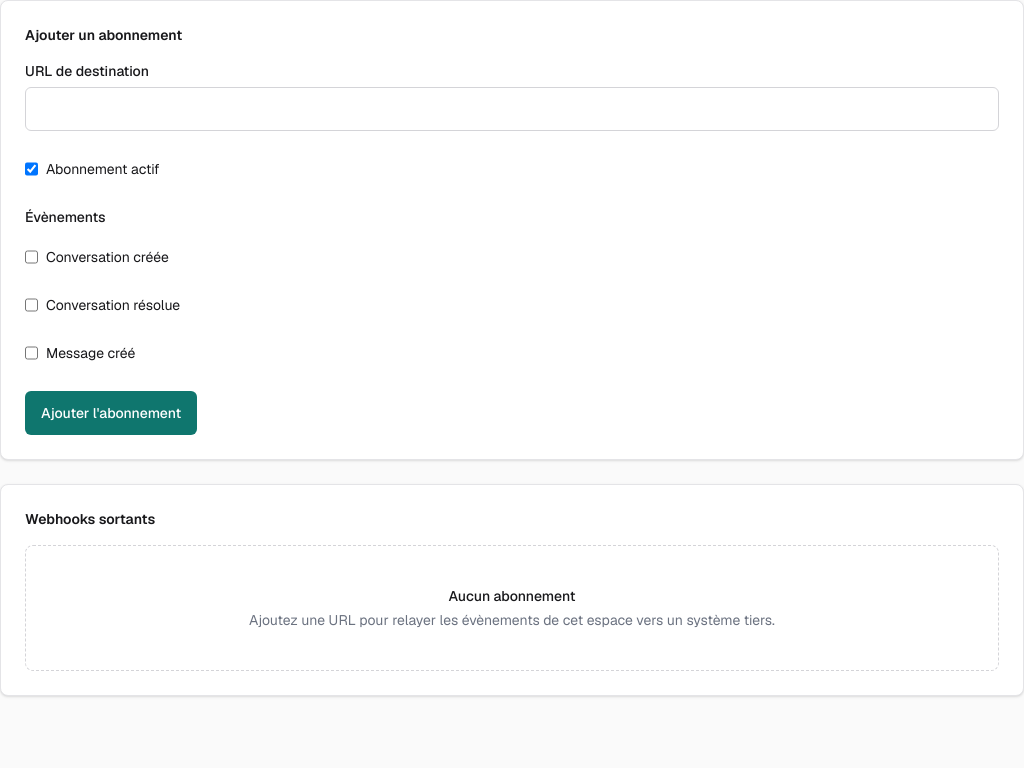
Test: WebhookSubscriptionsPage › cree un nouvel abonnement
Check: the text "Aucun abonnement" is shown, box [448, 586, 576, 606]
In the field labelled "URL de destination": (512, 109) [25, 87, 999, 131], type "https://exemple.fr/autre"
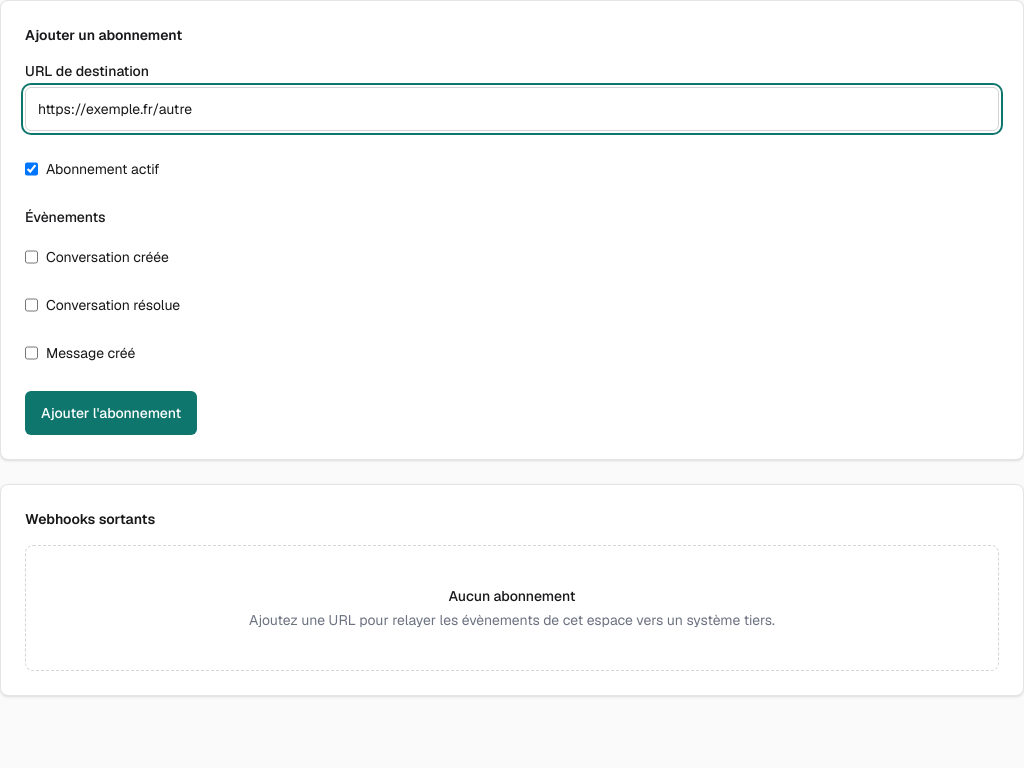
Click the checkbox labelled "Conversation créée": (32, 257) [25, 235, 38, 279]
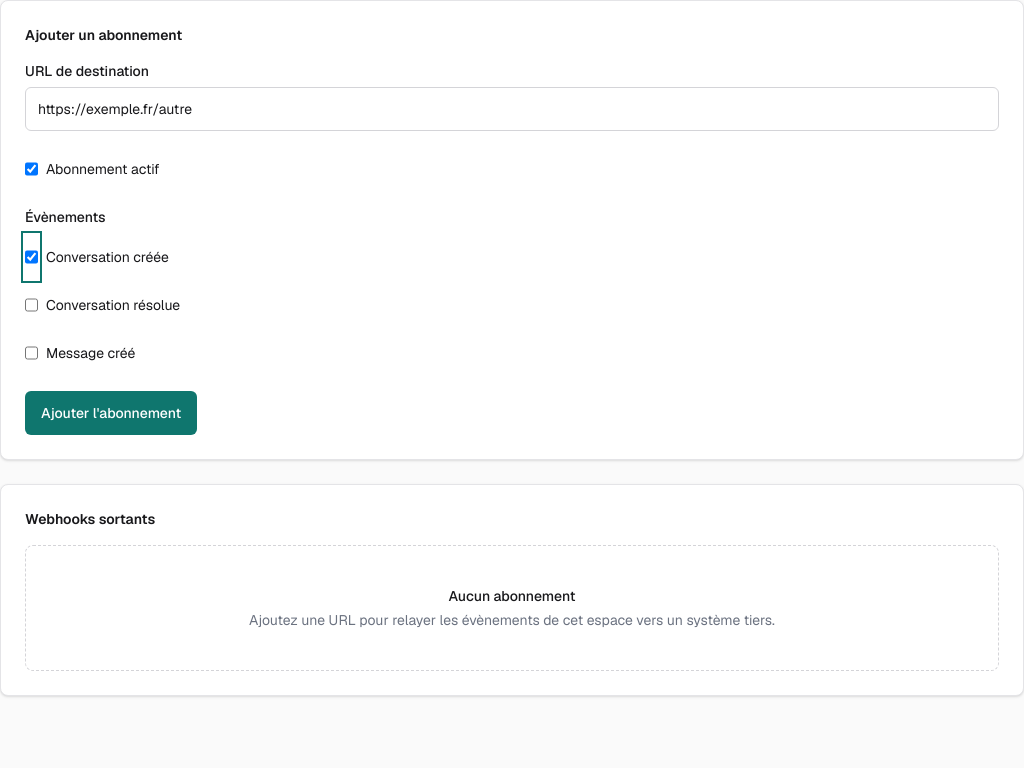
Click the button "Ajouter l'abonnement": (111, 413) [25, 391, 197, 435]
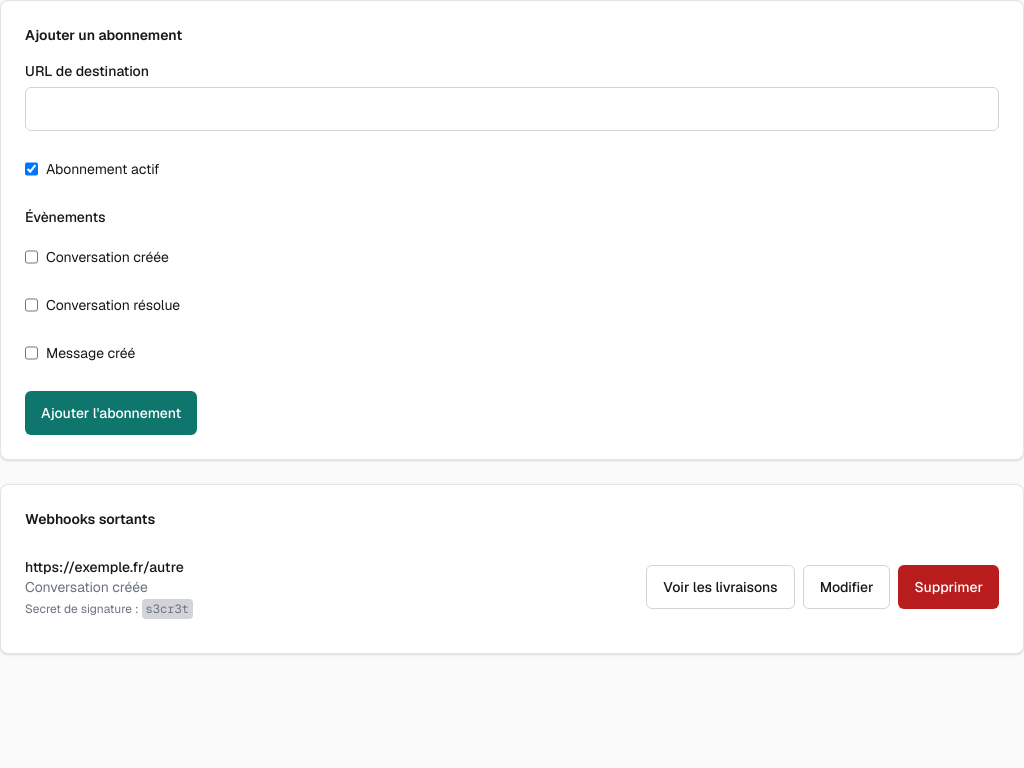
Check: the text "https://exemple.fr/autre" is shown, box [25, 557, 193, 577]
